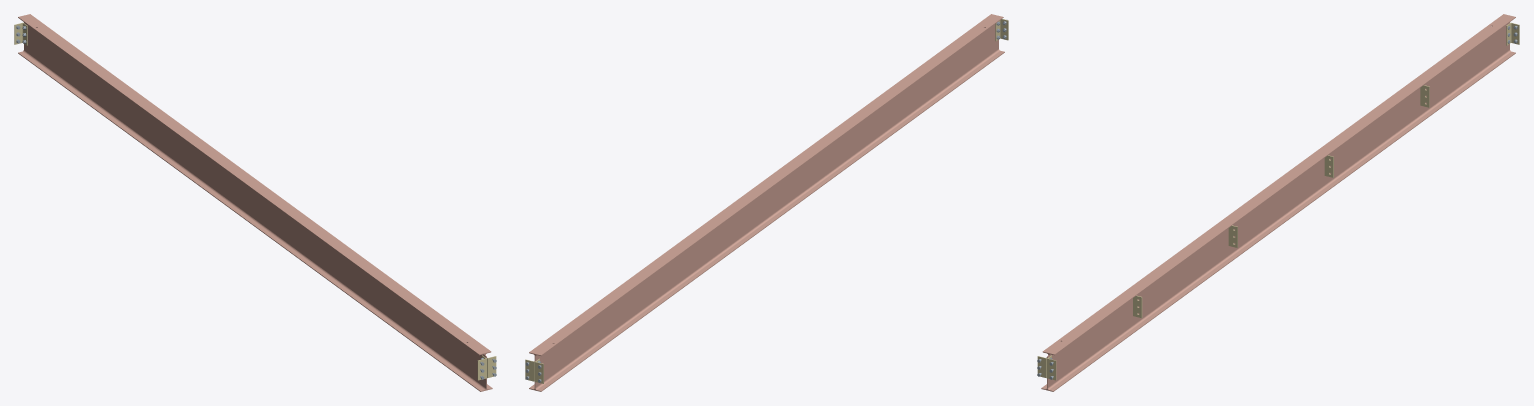
The picture shows the model from 3 angles, left to right: view 1: azimuth 30°, elevation 25°; view 2: azimuth 150°, elevation 25°; view 3: azimuth 330°, elevation 25°; orthographic projection.
Parts seen in each view (by area): view 1: product-1cd6538f-2763-490b-8332-f233068a64de-body; view 2: product-1cd6538f-2763-490b-8332-f233068a64de-body; view 3: product-1cd6538f-2763-490b-8332-f233068a64de-body.
Part boxes in pixels (x1,y1,x2,y2): product-1cd6538f-2763-490b-8332-f233068a64de-body: (18,14,492,391); product-1cd6538f-2763-490b-8332-f233068a64de-body: (529,14,1004,391); product-1cd6538f-2763-490b-8332-f233068a64de-body: (1041,14,1515,391).
Bounding box in the file's own units: 0.2095 × 0.3988 × 9.25.
